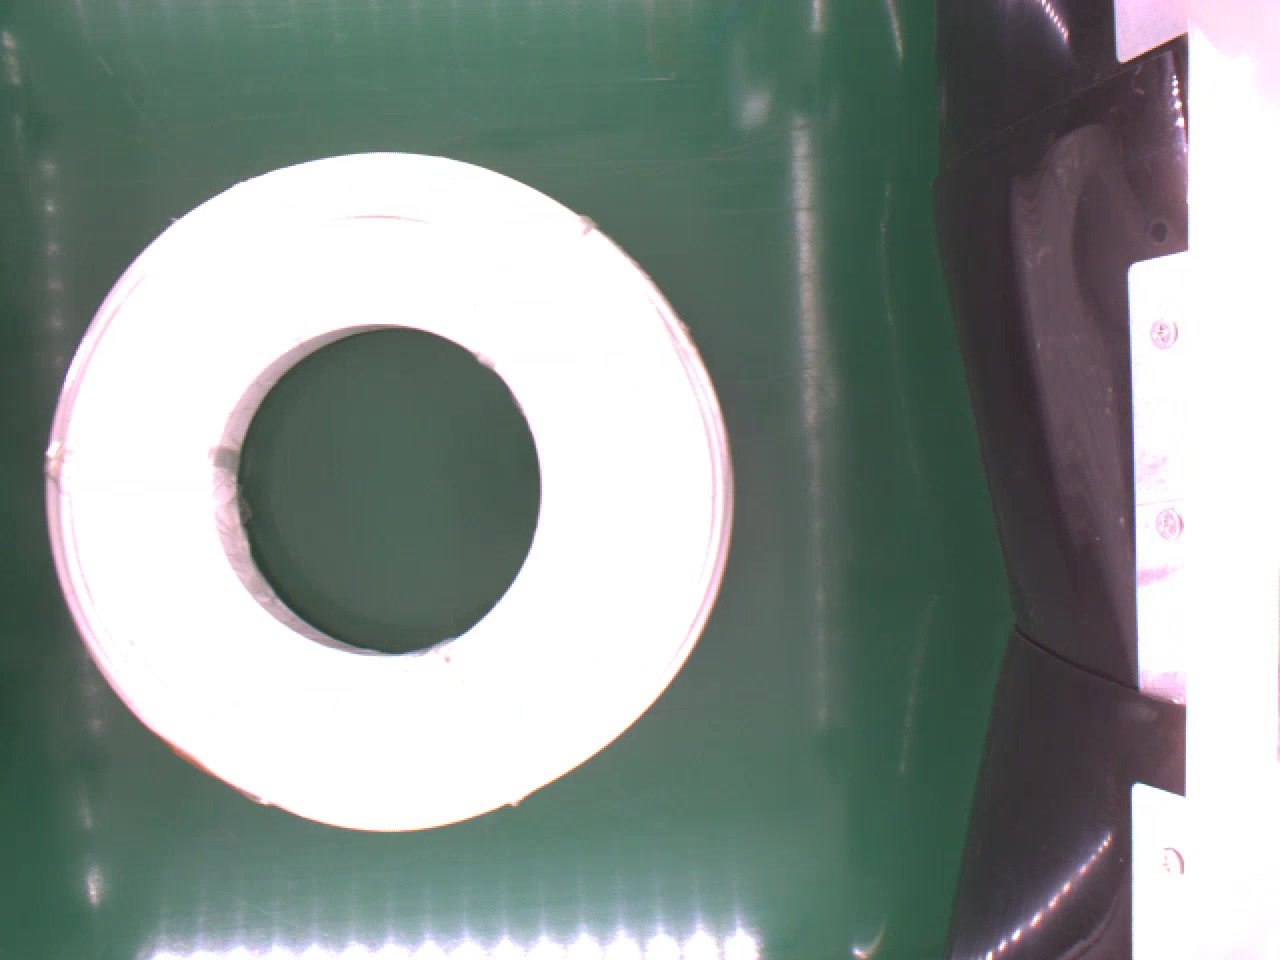white: (45, 148, 745, 835)
